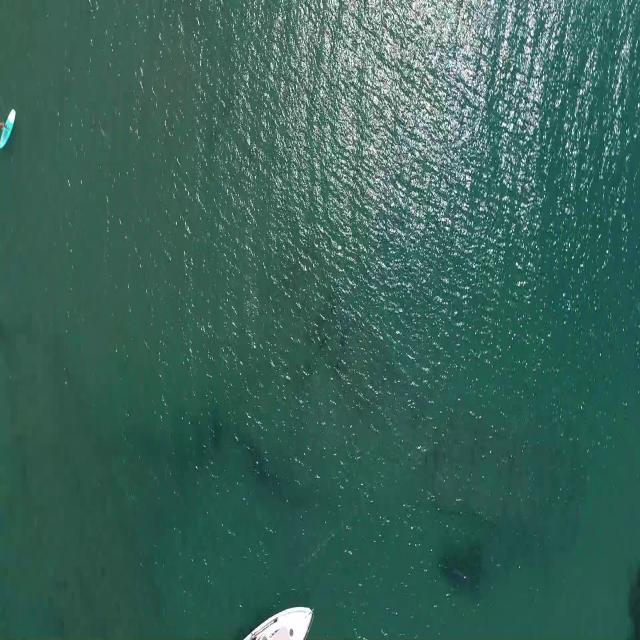boat: (240, 597, 316, 640)
person: (0, 118, 10, 136)
surfboard: (0, 105, 16, 155)
